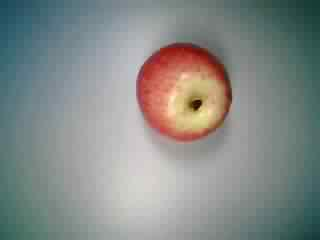apple: (129, 39, 236, 143)
